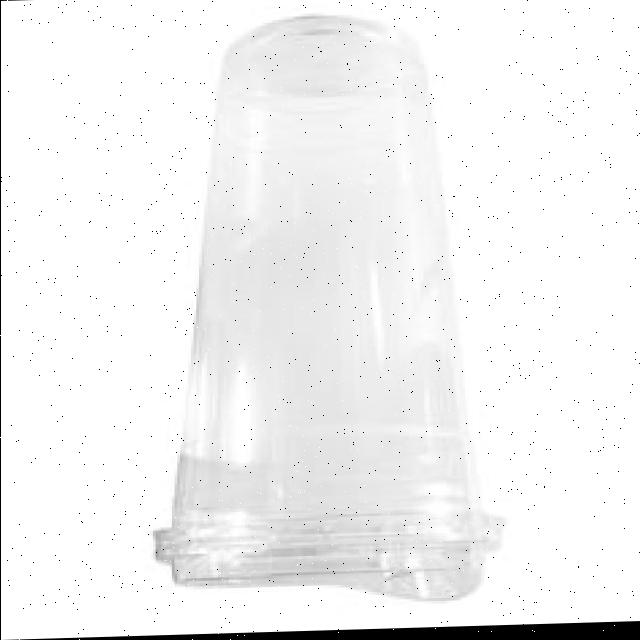cup: (172, 20, 478, 525)
